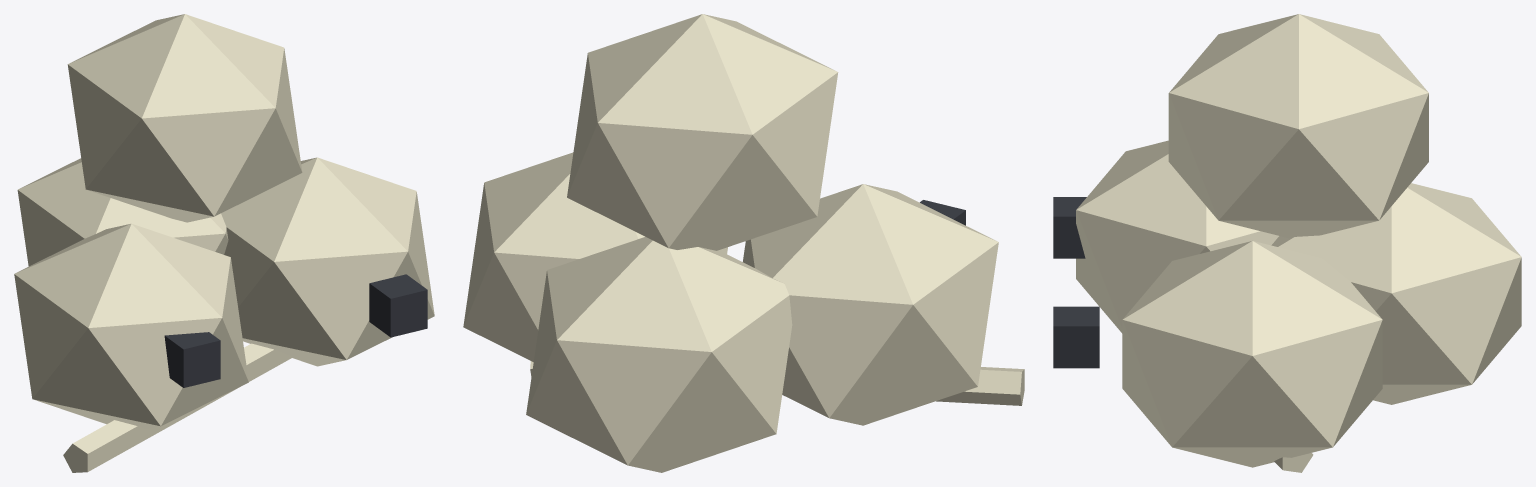
Rendered from skull_pile.glb.
The picture shows the model from 3 angles, left to right: view 1: azimuth 30°, elevation 25°; view 2: azimuth 150°, elevation 25°; view 3: azimuth 270°, elevation 25°; orthographic projection. The views are drawn at different scales.
Parts seen in each view (by area): view 1: skull_pile; view 2: skull_pile; view 3: skull_pile.
Part boxes in pixels (box(x1,y1,x2,y2)): skull_pile: box(14, 14, 434, 472); skull_pile: box(463, 14, 1024, 472); skull_pile: box(1053, 14, 1521, 472).
Bounding box in the file's own units: 0.5522 × 0.47 × 0.5054.
